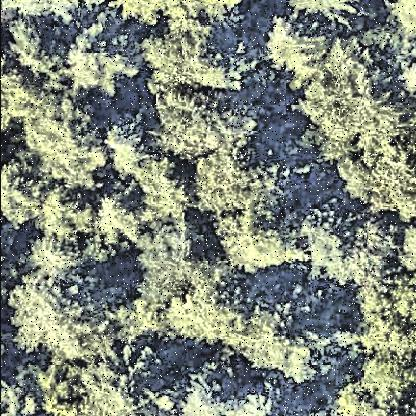tree-top: (298, 41, 392, 157), (6, 274, 105, 364), (20, 100, 109, 186), (358, 283, 416, 411), (156, 85, 250, 163), (244, 300, 330, 384), (145, 22, 239, 94), (194, 141, 270, 220), (213, 211, 295, 279), (343, 146, 416, 220), (80, 351, 162, 416), (137, 227, 207, 301), (64, 26, 137, 96), (298, 201, 352, 291), (176, 369, 278, 416), (8, 15, 62, 99), (37, 186, 97, 249), (91, 186, 145, 252), (2, 152, 44, 234), (104, 117, 154, 183), (283, 2, 359, 26), (389, 1, 416, 54)
